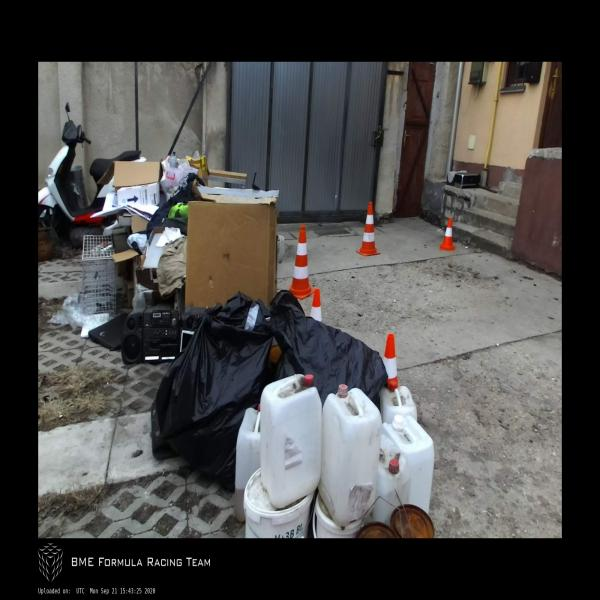large_orange_cone: (289, 225, 314, 301), (356, 202, 380, 256), (383, 333, 398, 387), (308, 288, 322, 323)
orange_cone: (439, 218, 454, 251)
